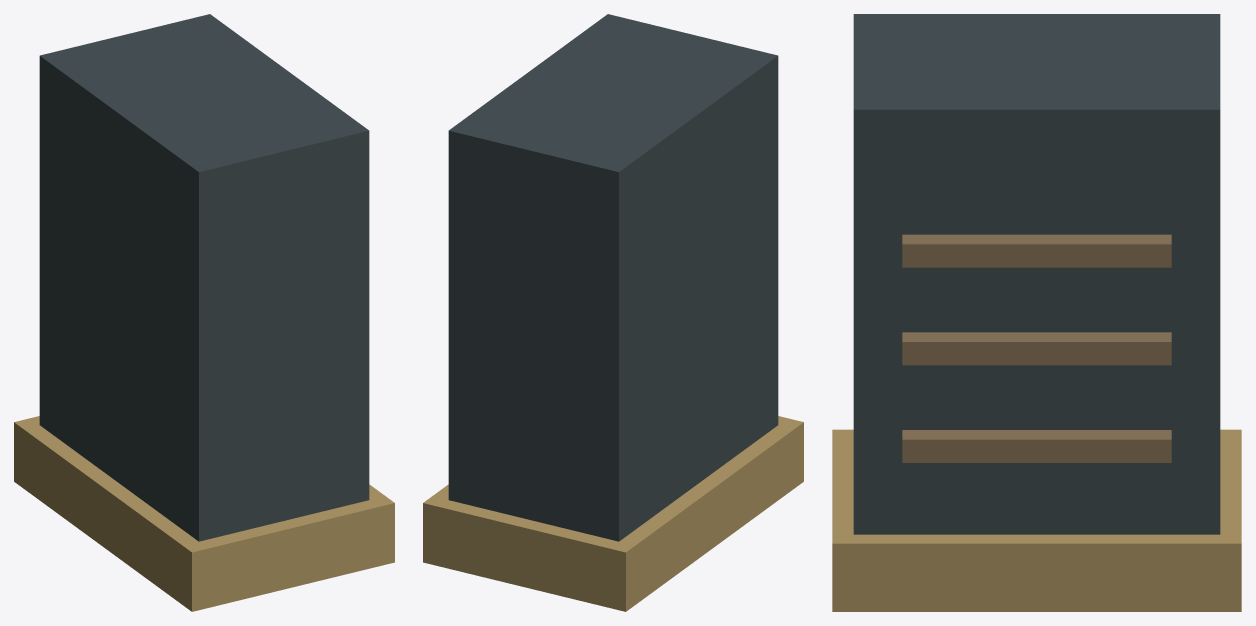
The model's file is Equip_Magazine.fbx.
3 views of the same model, side by side, from view 1: azimuth 30°, elevation 25°; view 2: azimuth 150°, elevation 25°; view 3: azimuth 270°, elevation 25° (orthographic). The views are drawn at different scales.
Parts seen in each view (by area): view 1: Equip_Magazine; view 2: Equip_Magazine; view 3: Equip_Magazine.
Boxes of the visible parts, x1,y1,x2,y2 form: Equip_Magazine: (14,14,394,611); Equip_Magazine: (423,14,803,611); Equip_Magazine: (832,14,1241,611).
Bounding box in the file's own units: 0.1255 × 0.2525 × 0.19.
